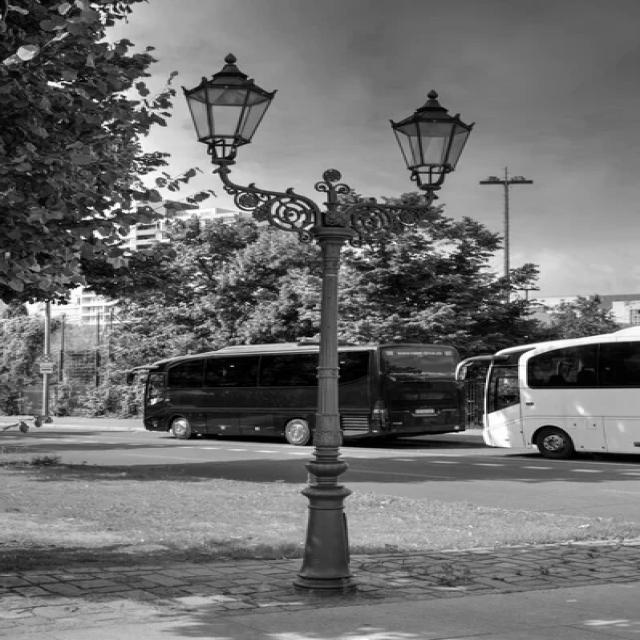Bus: (460, 328, 640, 458), (128, 344, 317, 446), (338, 344, 467, 439)
Pole: (183, 54, 473, 595)
